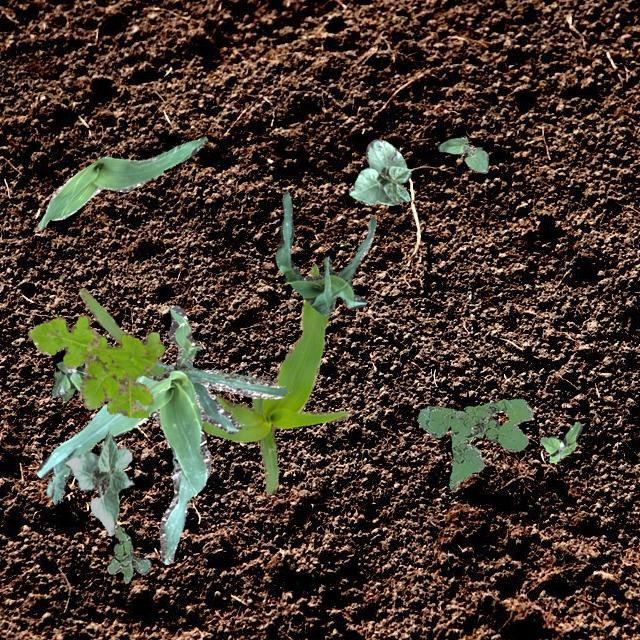crop: (35, 304, 288, 564), (78, 262, 346, 493), (36, 136, 205, 228), (274, 190, 376, 314), (65, 432, 132, 534), (348, 138, 412, 204), (437, 138, 488, 172)
weed: (27, 314, 164, 416), (416, 398, 532, 488), (106, 524, 150, 582), (540, 421, 582, 462), (50, 360, 86, 400)
